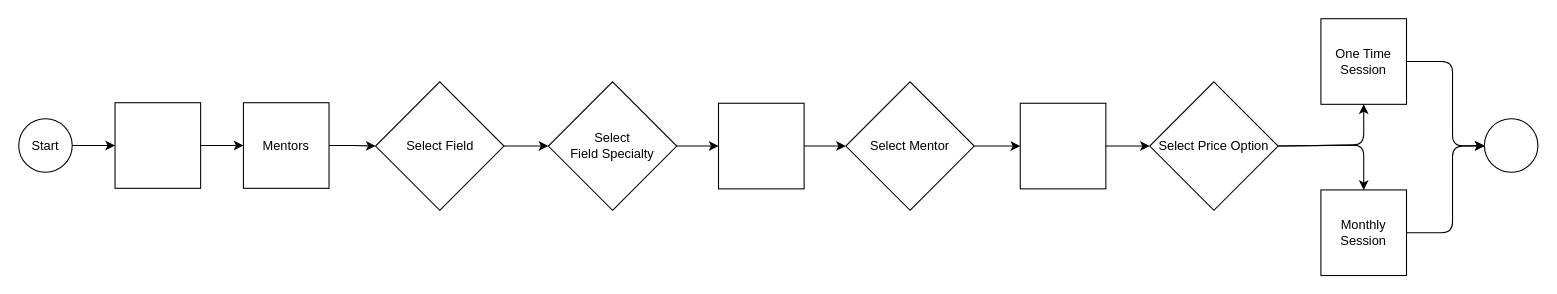
This 1557x294 diagram has some shape labels left out. The shapes that lost their labels are listed below. From the top down, each one's centre as x and y in pixels, then its label:
the point at 157,145: Dashboard
the point at 760,145: Mentor Selection View
the point at 1062,145: Mentor Profile View
the point at 1510,145: End
